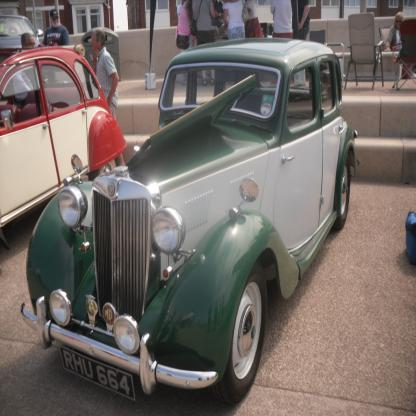Car: (21, 39, 360, 405), (1, 49, 128, 251), (1, 15, 47, 66)
